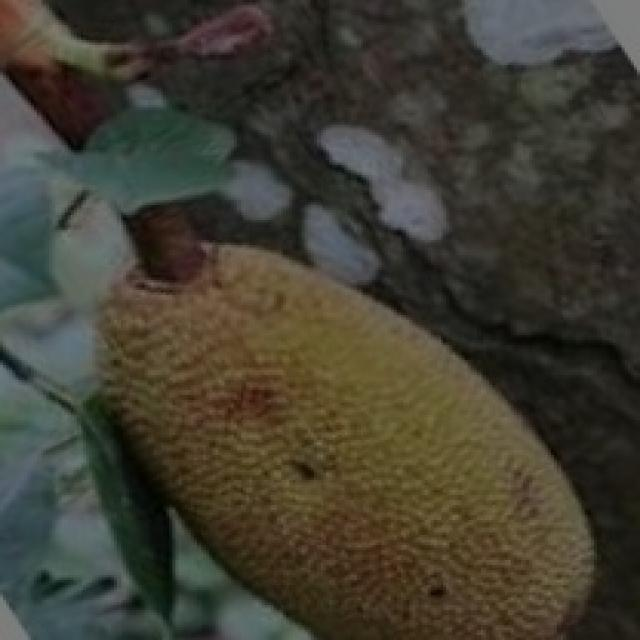Fruit: (50, 212, 452, 638), (252, 228, 634, 638)
